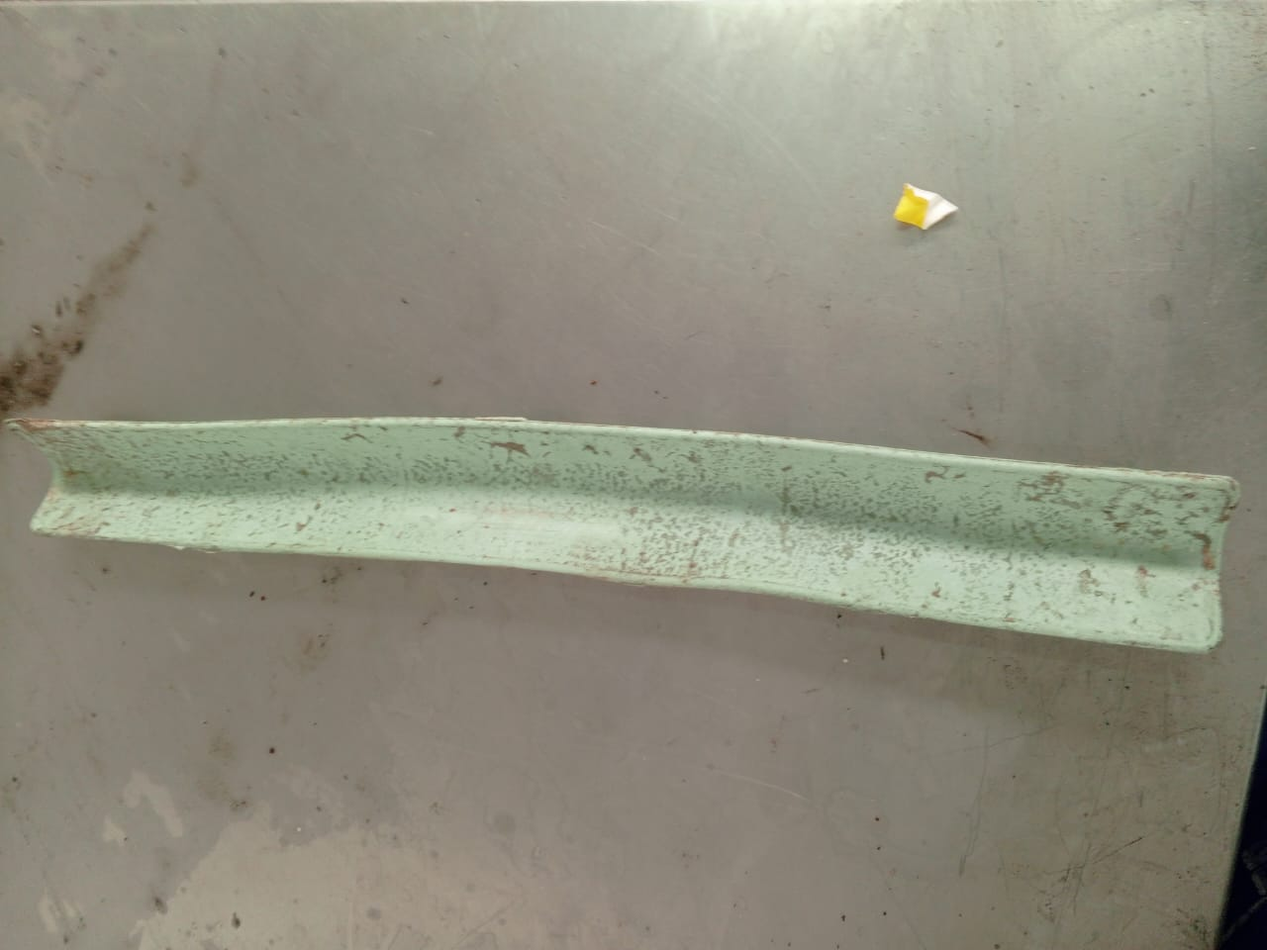Ordinario: (9, 417, 1240, 652)
